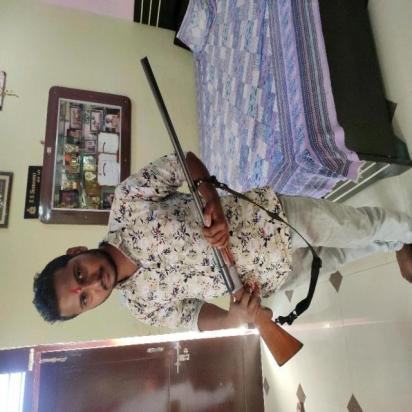Gun: (138, 52, 306, 370)
